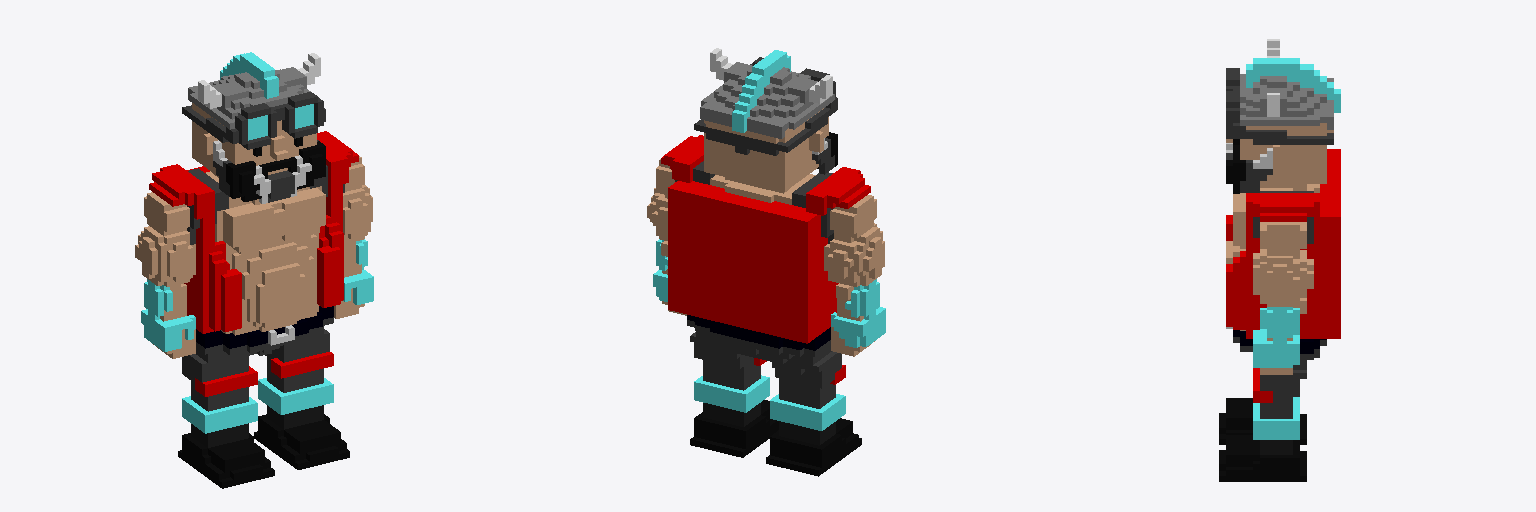
3 views of the same model, side by side, from view 1: azimuth 30°, elevation 25°; view 2: azimuth 150°, elevation 25°; view 3: azimuth 270°, elevation 25° (orthographic).
Visible parts, largest first — view 1: object 1; view 2: object 1; view 3: object 1.
Part boxes in pixels (left/top/right/bottom): object 1: left=135, top=52, right=373, bottom=488; object 1: left=647, top=48, right=885, bottom=476; object 1: left=1219, top=39, right=1340, bottom=481.
Bounding box in the file's own units: 3.8 × 6.4 × 1.8.
1 materials, 1 textured.